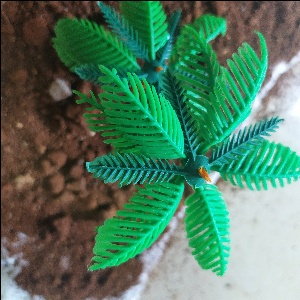plant: (54, 10, 289, 273)
